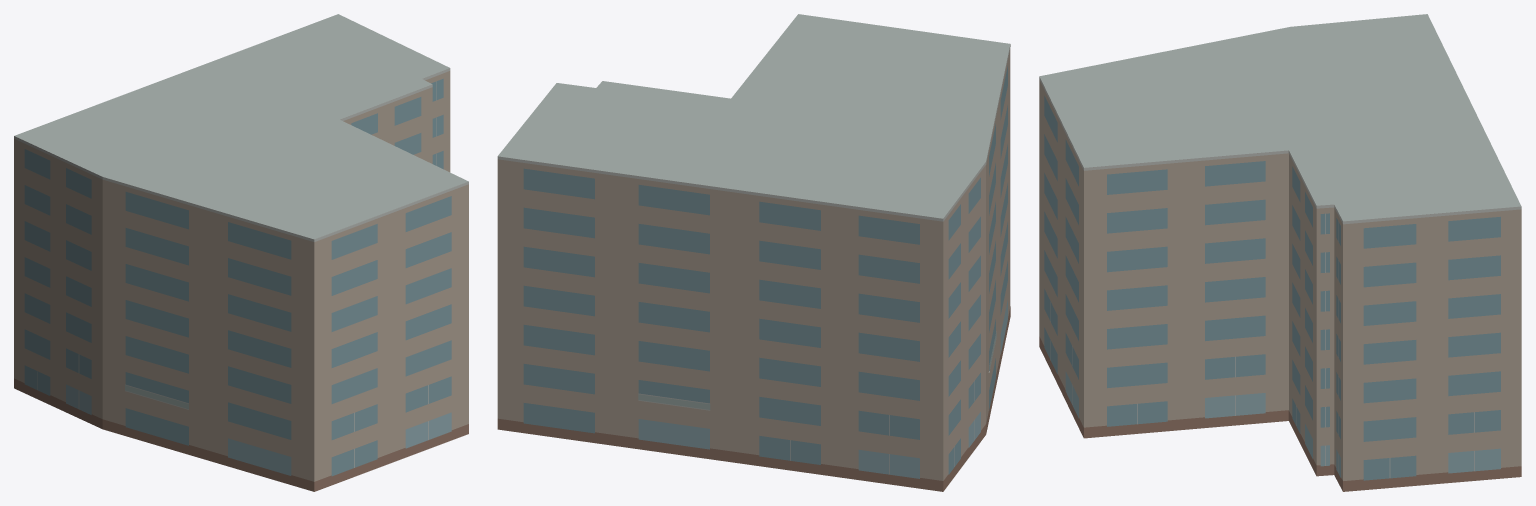
The model's file is survey-upis-32698532.glb.
3 views of the same model, side by side, from view 1: azimuth 30°, elevation 25°; view 2: azimuth 150°, elevation 25°; view 3: azimuth 270°, elevation 25° (orthographic). The views are drawn at different scales.
Visible parts, largest first — view 1: survey-upis-32698532.tmp; view 2: survey-upis-32698532.tmp; view 3: survey-upis-32698532.tmp.
Part boxes in pixels (bbox=[...]): survey-upis-32698532.tmp: bbox=[14, 14, 468, 491]; survey-upis-32698532.tmp: bbox=[497, 14, 1010, 491]; survey-upis-32698532.tmp: bbox=[1039, 14, 1521, 491].
Bounding box in the file's own units: 37.1 × 22.55 × 36.44.
